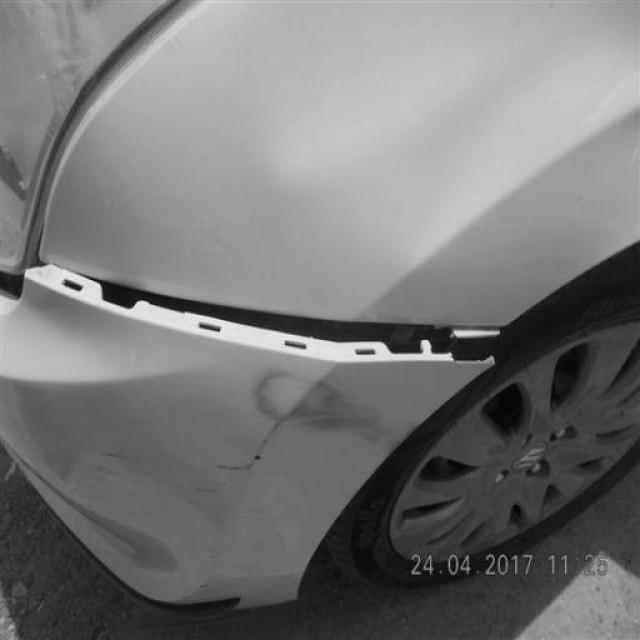scratch: (255, 366, 423, 451), (202, 452, 265, 473)
tear: (21, 251, 508, 364)
